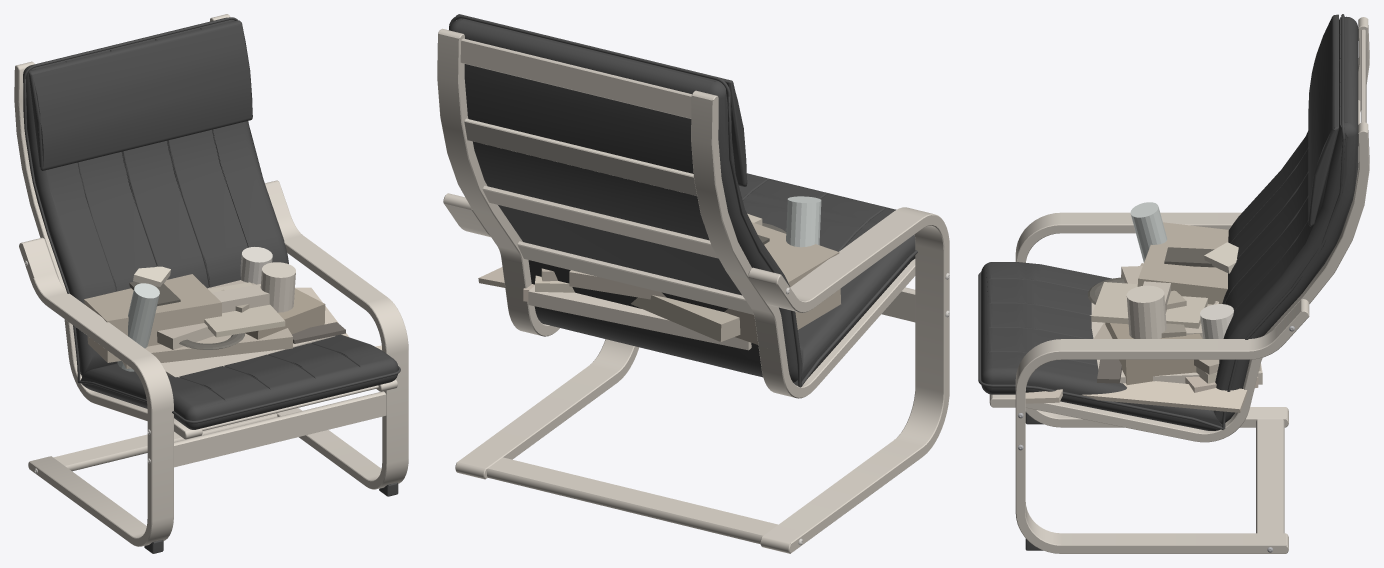
File: chair_suspension.glb
3 renders of one model, left to right at view 1: azimuth 30°, elevation 25°; view 2: azimuth 150°, elevation 25°; view 3: azimuth 270°, elevation 25°, orthographic. The views are drawn at different scales.
Parts seen in each view (by area): view 1: Chair, AEP_ToteBag, AEP_Jacket, AEP_Notebook, AEP_WaterBottle, AEP_Bag2, AEP_Mug, AEP_Sweater, AEP_Hoodie, AEP_PencilCase, AEP_Cup, AEP_Glasses (+2 smaller); view 2: Chair, AEP_Sweater, AEP_ToteBag, AEP_Jacket, AEP_WaterBottle, AEP_Hoodie; view 3: Chair, AEP_ToteBag, AEP_Scarf2, AEP_Notebook, AEP_Mug, AEP_Bag2, AEP_WaterBottle, AEP_Cup, AEP_Phone, AEP_Wrapper, AEP_Sweater, AEP_Glasses.
Part boxes in pixels (x1,y1,x2,y2): Chair: [14, 14, 408, 553]; AEP_ToteBag: [84, 274, 221, 362]; AEP_Jacket: [122, 328, 292, 368]; AEP_Notebook: [204, 282, 285, 337]; AEP_WaterBottle: [117, 283, 159, 371]; AEP_Bag2: [245, 288, 325, 339]; AEP_Mug: [260, 262, 295, 312]; AEP_Sweater: [161, 336, 334, 377]; AEP_Hoodie: [157, 280, 255, 349]; AEP_PencilCase: [212, 284, 269, 313]; AEP_Cup: [240, 247, 272, 284]; AEP_Glasses: [292, 322, 345, 343]; Chair: [437, 14, 949, 553]; AEP_Sweater: [528, 286, 751, 350]; AEP_ToteBag: [724, 222, 840, 344]; AEP_Jacket: [631, 295, 740, 341]; AEP_WaterBottle: [786, 196, 821, 247]; AEP_Hoodie: [569, 270, 666, 299]; Chair: [978, 14, 1369, 553]; AEP_ToteBag: [1137, 222, 1228, 304]; AEP_Scarf2: [1081, 381, 1247, 412]; AEP_Notebook: [1091, 282, 1207, 328]; AEP_Mug: [1126, 285, 1166, 338]; AEP_Bag2: [1105, 322, 1202, 384]; AEP_WaterBottle: [1130, 202, 1167, 262]; AEP_Cup: [1200, 304, 1233, 338]; AEP_Phone: [1164, 247, 1214, 267]; AEP_Wrapper: [1204, 242, 1238, 273]; AEP_Sweater: [1090, 303, 1262, 384]; AEP_Glasses: [1097, 359, 1121, 383].
Bounding box in the file's own units: 0.7386 × 1.02 × 0.8641.
